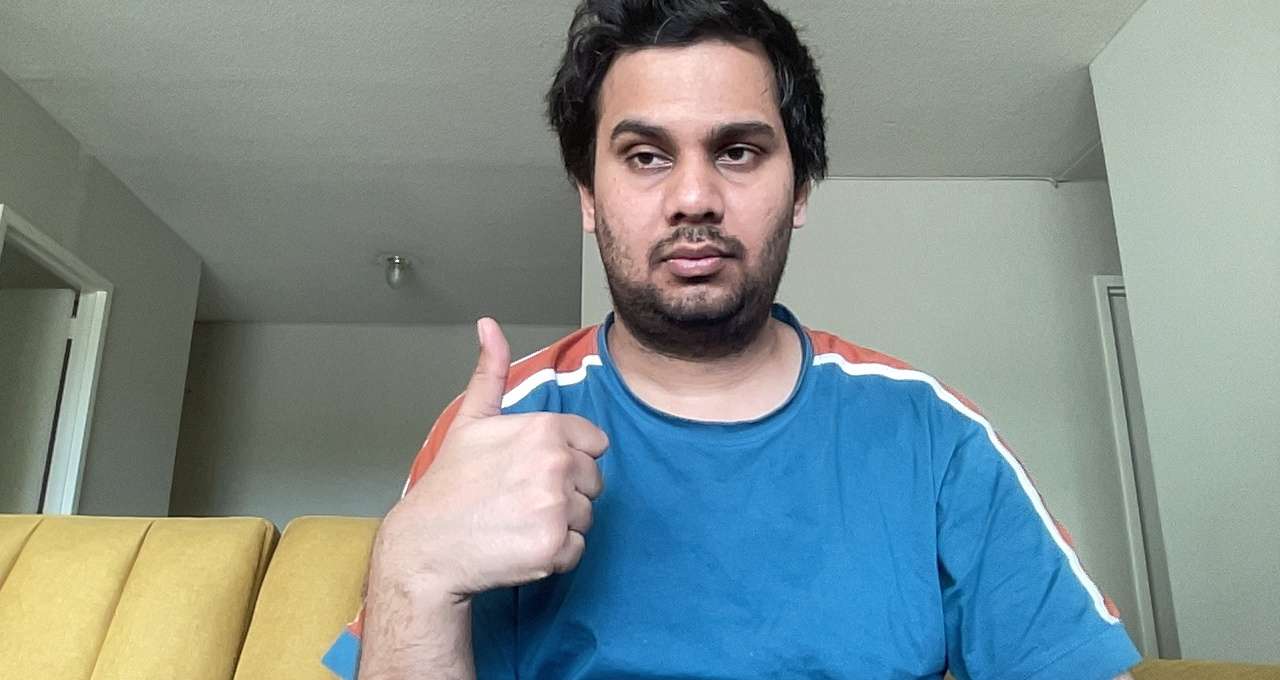thumbsup: (408, 313, 613, 589)
